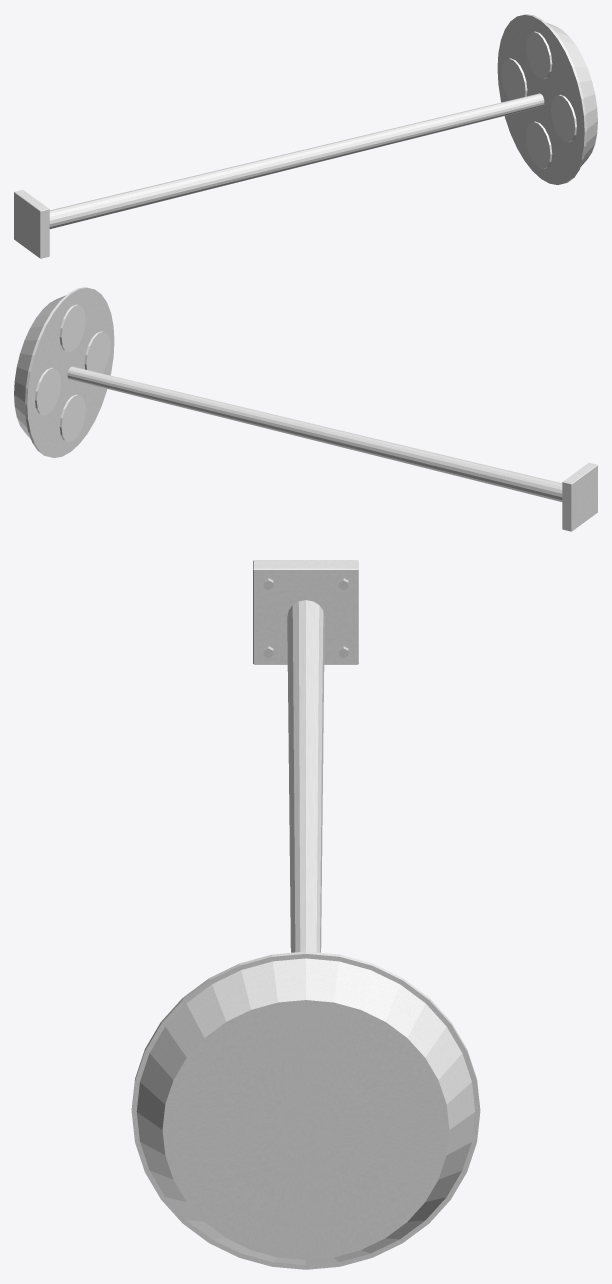
Rendered from roundparkinglight.obj.
The picture shows the model from 3 angles, top to bottom: view 1: azimuth 30°, elevation 25°; view 2: azimuth 150°, elevation 25°; view 3: azimuth 270°, elevation 25°; orthographic projection. The views are drawn at different scales.
Parts seen in each view (by area): view 1: Metal, Head0Trim, Base, Head0Metal, Light1, Light0, Light2, Light3; view 2: Metal, Head0Trim, Base, Head0Metal, Light3, Light0, Light2, Light1; view 3: Head0Metal, Metal, Base, Head0Trim.
Boxes of the visible parts, left/top/right/bottom form: Metal: left=49, top=93, right=544, bottom=229; Head0Trim: left=497, top=14, right=586, bottom=184; Base: left=14, top=189, right=49, bottom=258; Head0Metal: left=546, top=22, right=597, bottom=166; Light1: left=551, top=94, right=576, bottom=142; Light0: left=526, top=31, right=552, bottom=79; Light2: left=526, top=121, right=552, bottom=169; Light3: left=501, top=58, right=527, bottom=100; Metal: left=67, top=366, right=562, bottom=502; Head0Trim: left=25, top=287, right=114, bottom=457; Base: left=562, top=462, right=597, bottom=531; Head0Metal: left=14, top=295, right=65, bottom=439; Light3: left=35, top=367, right=60, bottom=415; Light0: left=59, top=304, right=85, bottom=352; Light2: left=59, top=394, right=85, bottom=442; Light1: left=84, top=331, right=110, bottom=373; Head0Metal: left=136, top=958, right=475, bottom=1265; Metal: left=287, top=600, right=324, bottom=952; Base: left=253, top=560, right=358, bottom=664; Head0Trim: left=131, top=951, right=480, bottom=1269.
Size of the model in its own units: 5.6 by 1.58 by 1.58.
